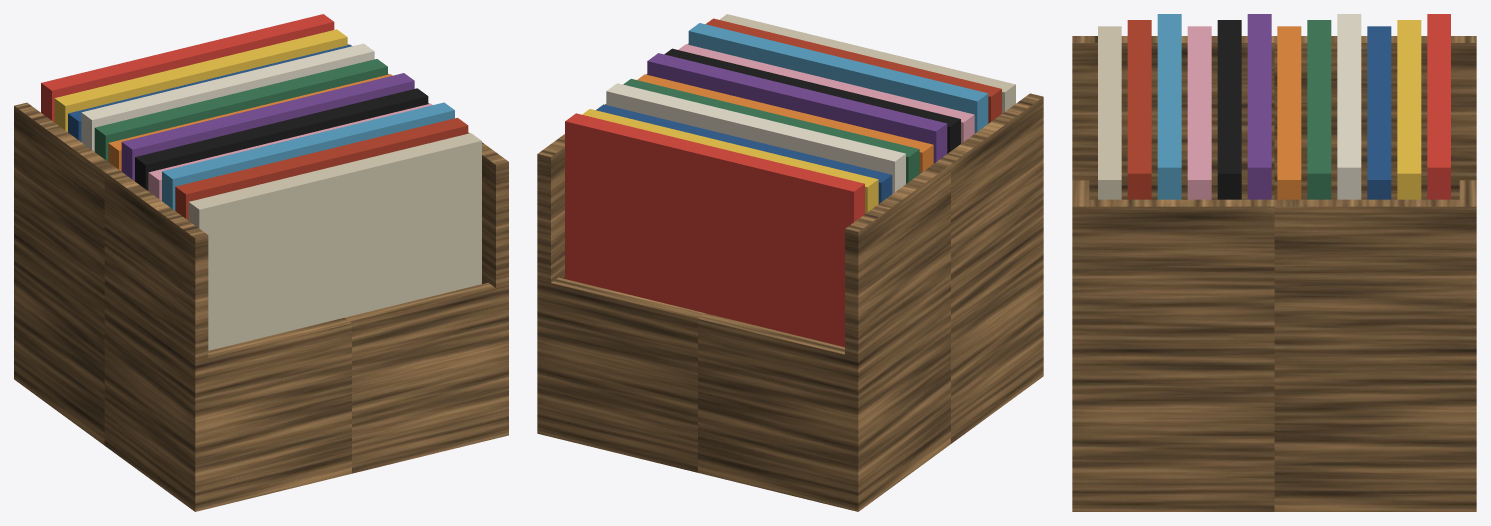
Rendered from obj-record-crate.glb.
3 renders of one model, left to right at view 1: azimuth 30°, elevation 25°; view 2: azimuth 150°, elevation 25°; view 3: azimuth 270°, elevation 25°, orthographic. The views are drawn at different scales.
Visible parts, largest first — view 1: obj-record-crate; view 2: obj-record-crate; view 3: obj-record-crate.
Boxes of the visible parts, left/top/right/bottom form: obj-record-crate: left=14, top=14, right=508, bottom=511; obj-record-crate: left=537, top=14, right=1043, bottom=511; obj-record-crate: left=1072, top=14, right=1476, bottom=511.
Bounding box in the file's own units: 0.36 × 0.33 × 0.36.
Materials: 2 (2 with a texture image).
